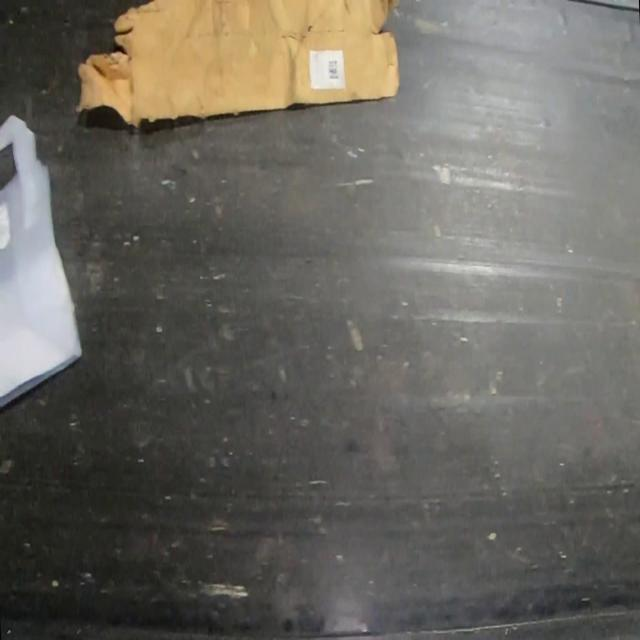cardboard: (76, 1, 397, 125)
soft_plastic: (0, 112, 81, 410)
